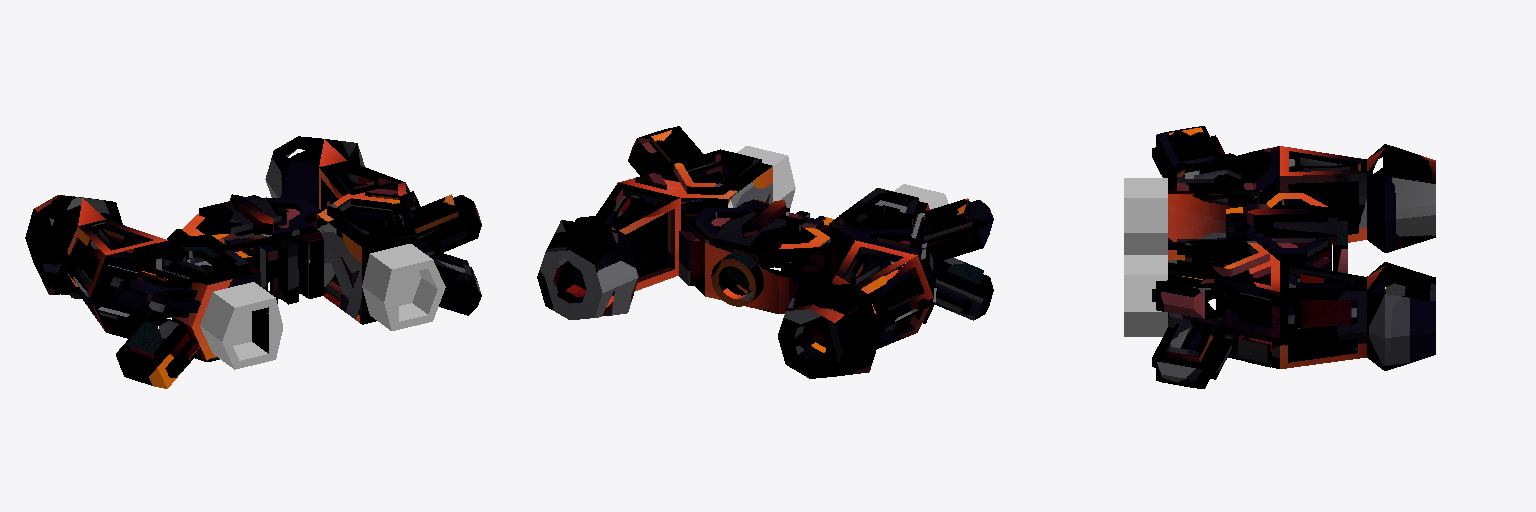
The picture shows the model from 3 angles: view 1: azimuth 30°, elevation 25°; view 2: azimuth 150°, elevation 25°; view 3: azimuth 270°, elevation 25°; orthographic projection.
Visible parts, largest first — view 1: Spaceship.007_Spaceship-mesh.007; view 2: Spaceship.007_Spaceship-mesh.007; view 3: Spaceship.007_Spaceship-mesh.007.
Part boxes in pixels (bbox=[...]): Spaceship.007_Spaceship-mesh.007: bbox=[25, 136, 481, 388]; Spaceship.007_Spaceship-mesh.007: bbox=[537, 126, 993, 378]; Spaceship.007_Spaceship-mesh.007: bbox=[1124, 126, 1435, 388].
Bounding box in the file's own units: 9.66 × 2.71 × 7.31.
Materials: 4 (1 with a texture image).